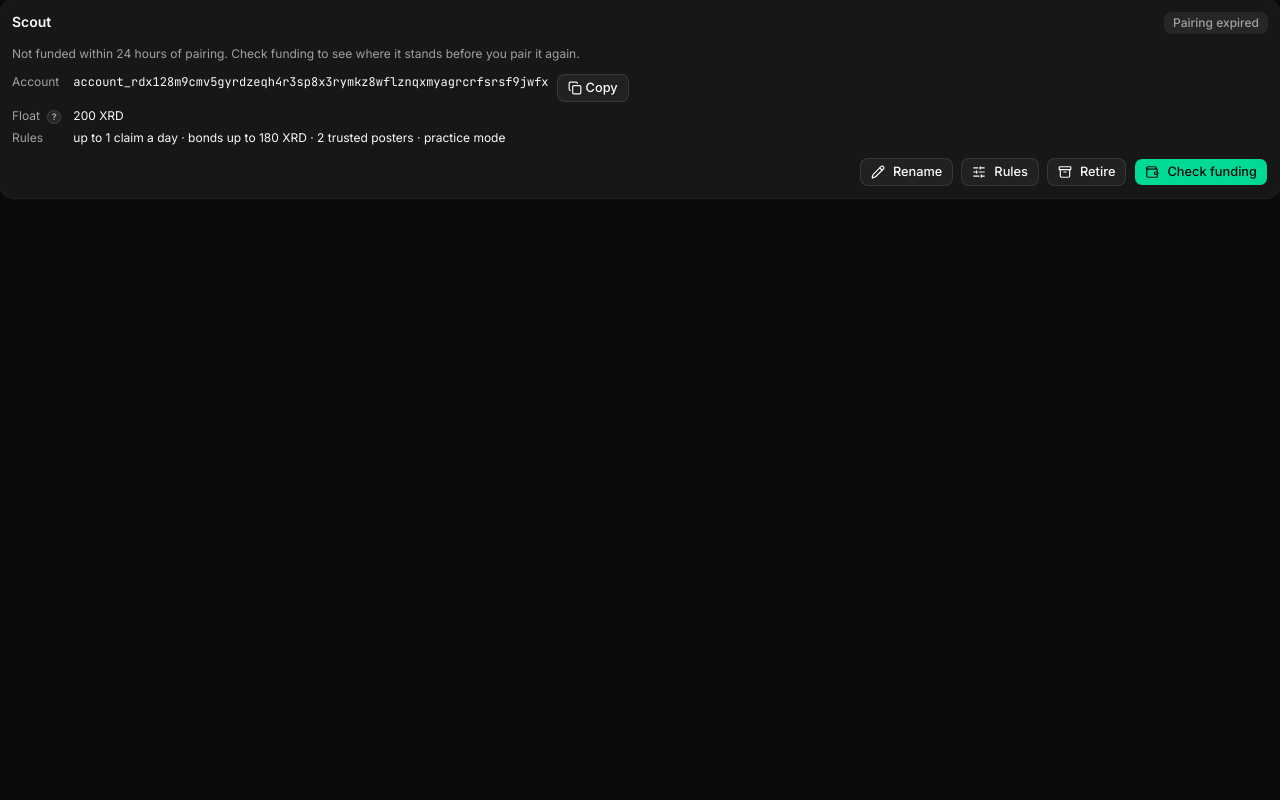
Test: an expired pairing whose funding may still be landing offers 'Check funding' › 🔴 badge landed out-of-band with a short float, pairing expired, no manifest ever: the check shows the real fix (send the rest)
Click the button "Check funding" at [1201, 172], box [1134, 158, 1268, 186]
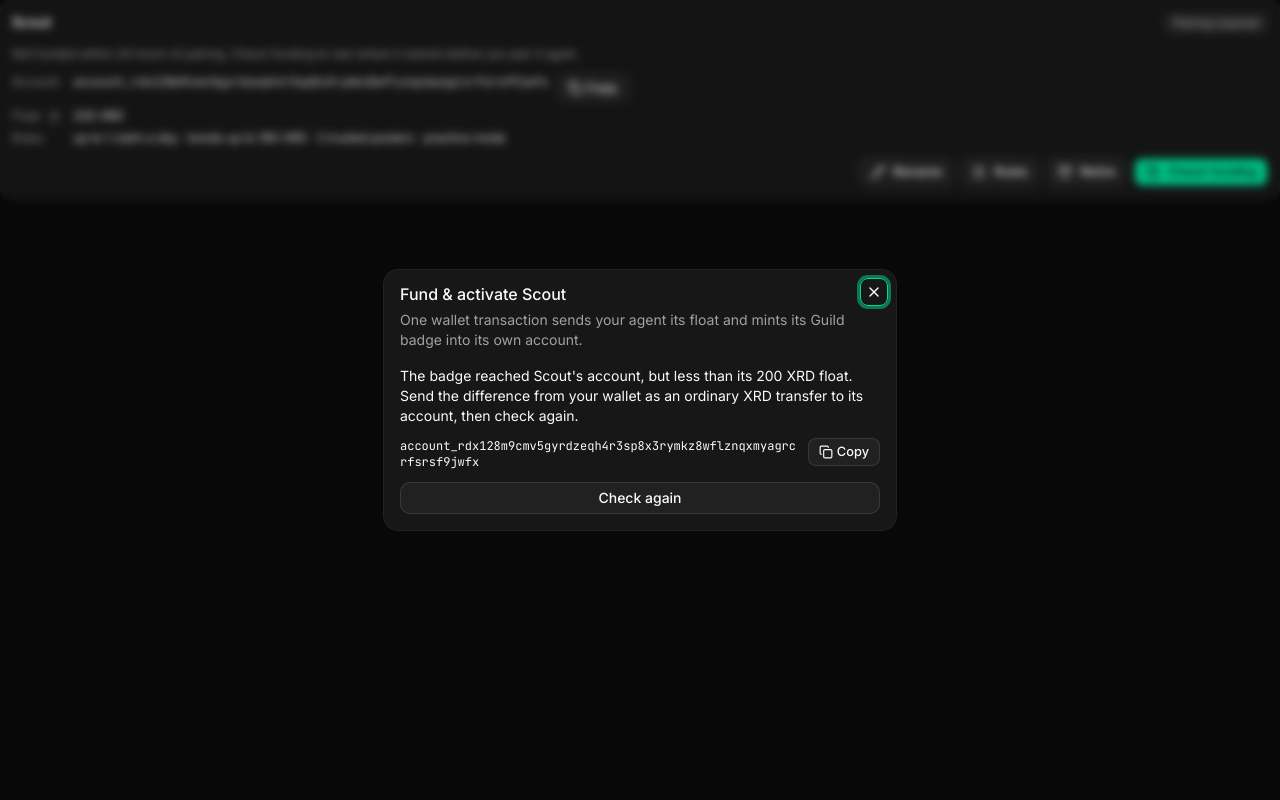
Result: the message shows "less than its 200 XRD float" at [400, 366, 880, 426]
Result: the message shows "Send the difference" at [400, 367, 863, 424]
